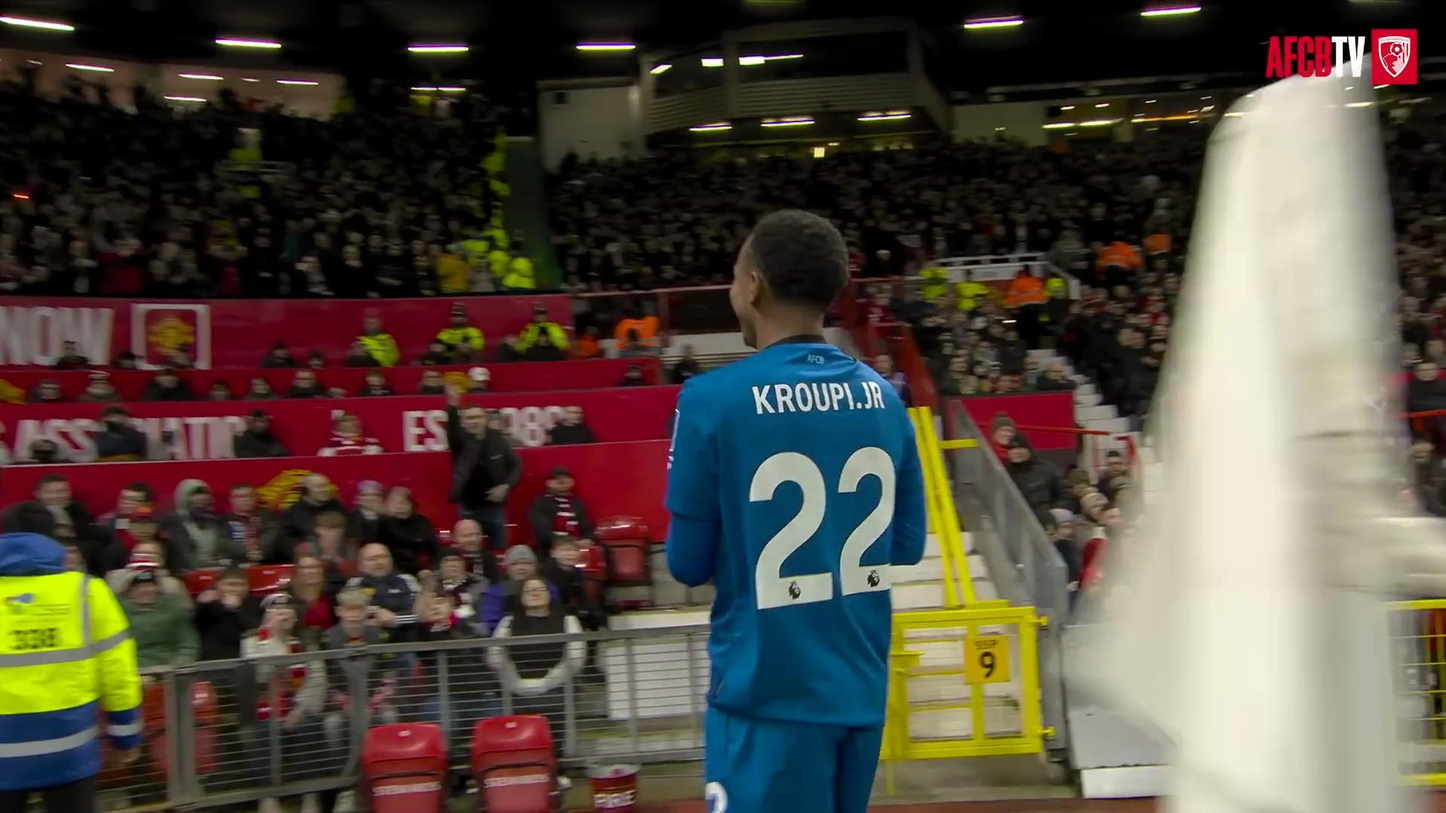player: (666, 210, 926, 812)
